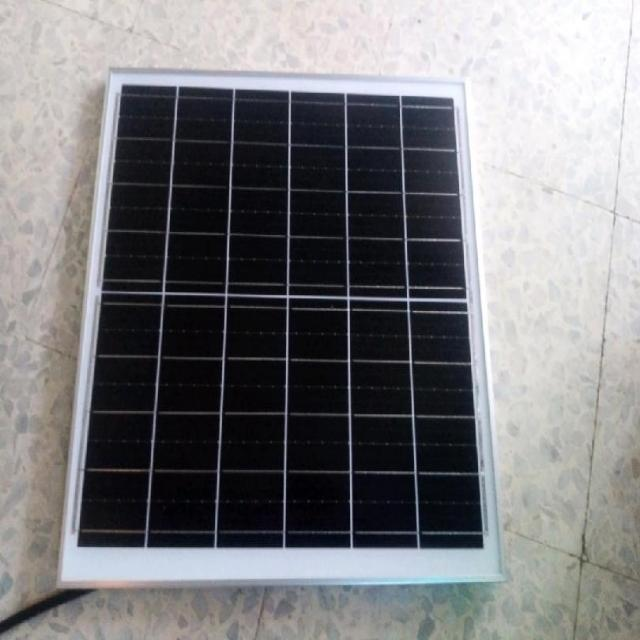no faulty: (59, 67, 507, 583)
